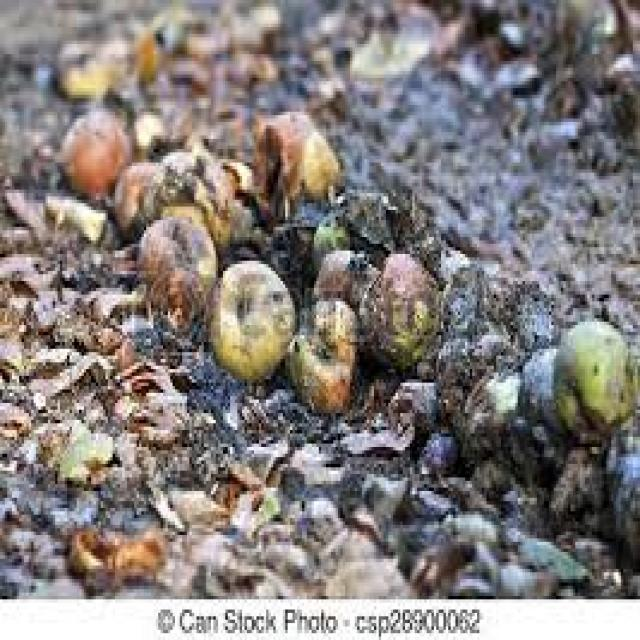organic waste: (204, 250, 295, 376), (546, 315, 630, 440), (132, 210, 216, 325), (357, 244, 436, 366), (142, 146, 232, 250), (458, 359, 537, 474), (285, 288, 357, 410), (309, 244, 379, 352), (259, 105, 335, 200), (215, 156, 288, 254), (55, 105, 130, 196), (515, 339, 566, 450), (110, 156, 170, 237), (309, 200, 355, 274), (55, 37, 108, 95)
